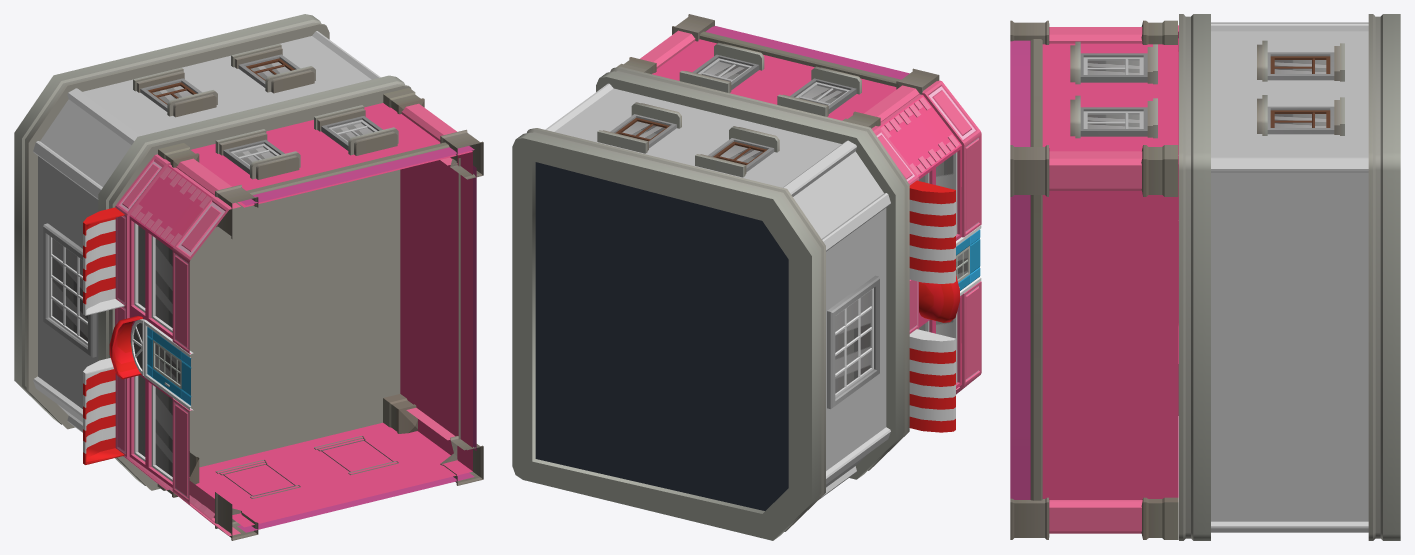
The model's file is Building_3_2_B.fbx.
The picture shows the model from 3 angles, left to right: view 1: azimuth 30°, elevation 25°; view 2: azimuth 150°, elevation 25°; view 3: azimuth 270°, elevation 25°; orthographic projection. The views are drawn at different scales.
Visible parts, largest first — view 1: Building 3_2_B; view 2: Building 3_2_B; view 3: Building 3_2_B.
Boxes of the visible parts, <box> form: Building 3_2_B: <box>14,14,483,540</box>; Building 3_2_B: <box>512,14,981,540</box>; Building 3_2_B: <box>1010,14,1400,540</box>.
Bounding box in the file's own units: 820 × 816 × 726.
